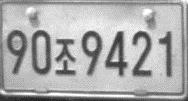0: (30, 29, 52, 75)
1: (157, 30, 173, 77)
2: (131, 30, 153, 77)
4: (104, 30, 128, 76)
9: (81, 30, 102, 76), (6, 29, 27, 74)
조: (54, 37, 76, 76)
